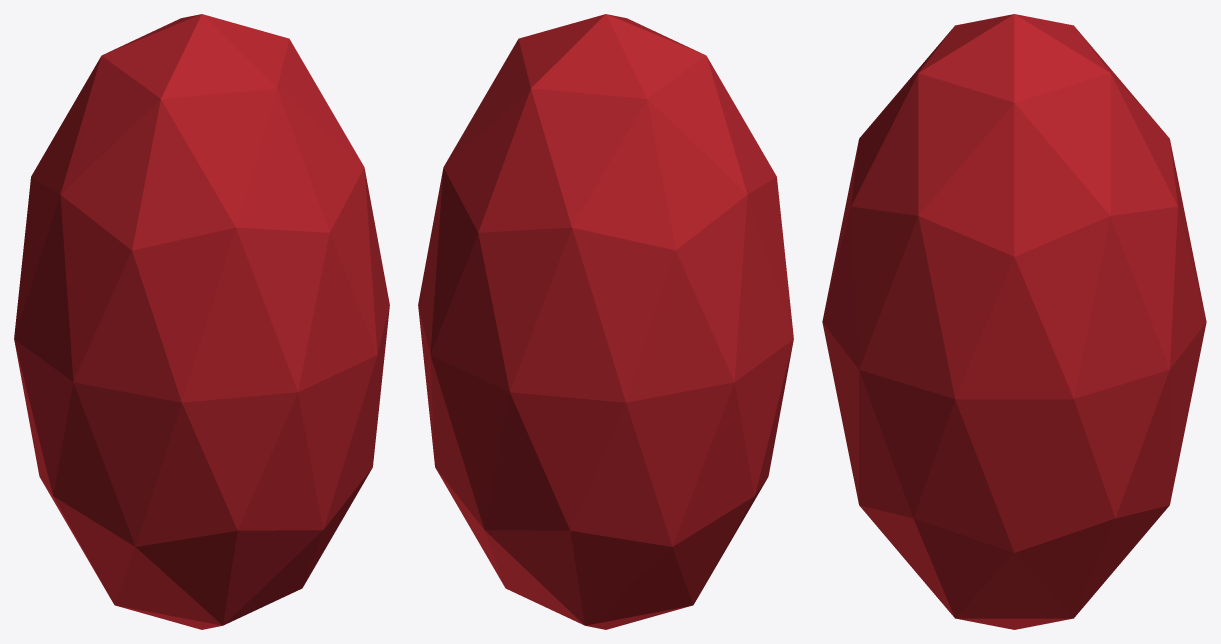
Rendered from spawnerCore.obj.
3 views of the same model, side by side, from view 1: azimuth 30°, elevation 25°; view 2: azimuth 150°, elevation 25°; view 3: azimuth 270°, elevation 25° (orthographic).
Visible parts, largest first — view 1: ICO球; view 2: ICO球; view 3: ICO球.
Boxes of the visible parts, <box> form: ICO球: <box>14,14,389,629</box>; ICO球: <box>418,14,793,629</box>; ICO球: <box>822,14,1206,629</box>.
Size of the model in its own units: 0.5336 by 0.9923 by 0.561.
